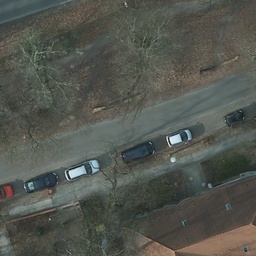car: (65, 156, 101, 181), (121, 140, 153, 163), (24, 170, 58, 190), (166, 127, 192, 149), (224, 106, 245, 126), (1, 180, 11, 201)
